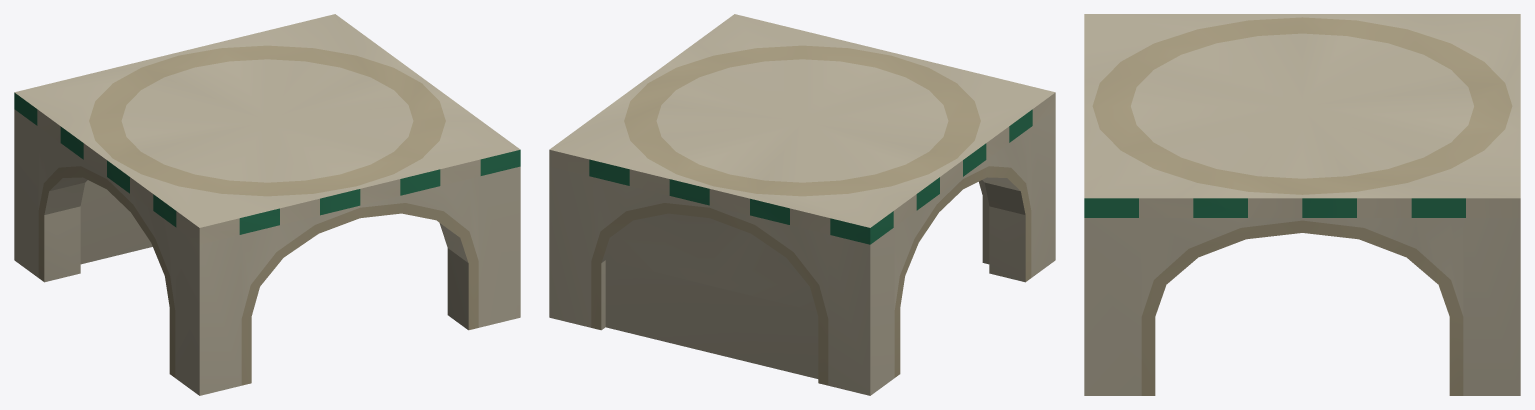
The model's file is dome.arch_3way.green.glb.
The picture shows the model from 3 angles, left to right: view 1: azimuth 30°, elevation 25°; view 2: azimuth 150°, elevation 25°; view 3: azimuth 270°, elevation 25°; orthographic projection. The views are drawn at different scales.
Visible parts, largest first — view 1: dome_arch_3way_green; view 2: dome_arch_3way_green; view 3: dome_arch_3way_green.
Part boxes in pixels (box(x1,y1,x2,y2)): dome_arch_3way_green: box(14, 14, 520, 395); dome_arch_3way_green: box(549, 14, 1055, 395); dome_arch_3way_green: box(1084, 14, 1520, 395).
Size of what is drawn, in the model's own units: 8 by 4 by 8.
